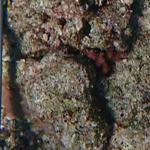dead: (6, 4, 146, 145)
